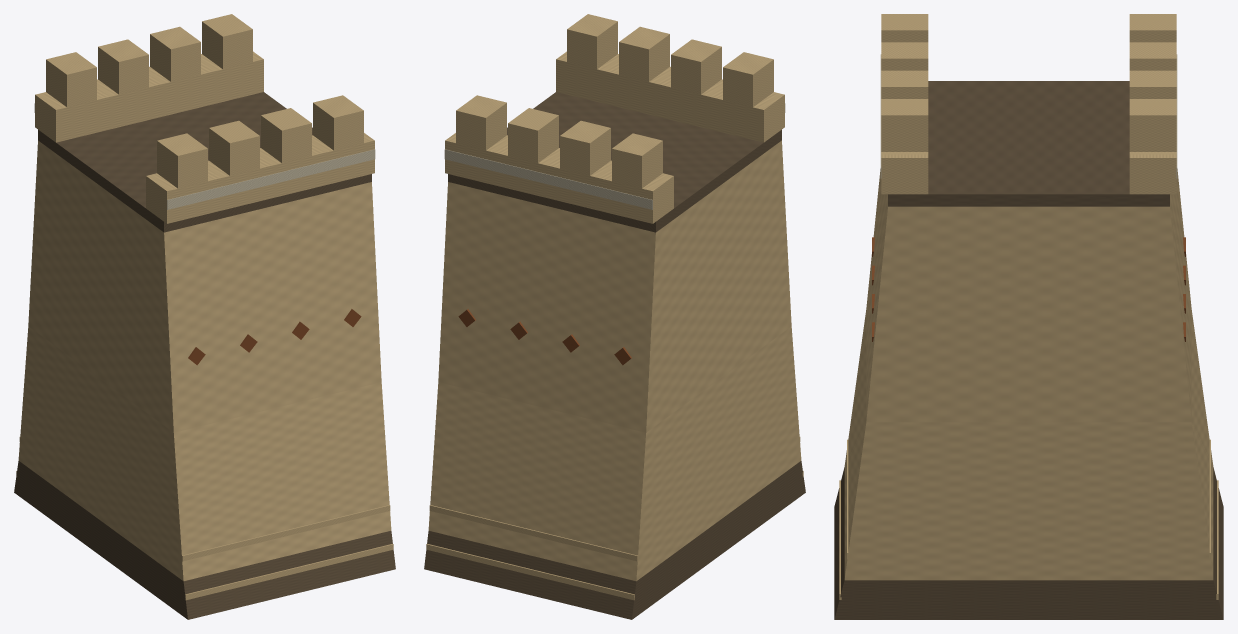
The model's file is Berber_Wall_Age4_gap_4m.fbx.
The picture shows the model from 3 angles, left to right: view 1: azimuth 30°, elevation 25°; view 2: azimuth 150°, elevation 25°; view 3: azimuth 270°, elevation 25°; orthographic projection. The views are drawn at different scales.
Parts seen in each view (by area): view 1: gap_4m_rammed_curtain_upper, gap_4m_rammed_curtain_lower, gap_4m_battered_stone_foot, gap_4m_walk_deck, gap_4m_parapet.001, gap_4m_parapet, gap_4m_merlon.003, gap_4m_merlon.002, gap_4m_merlon.005, gap_4m_merlon, gap_4m_merlon.004, gap_4m_merlon.001 (+6 smaller); view 2: gap_4m_rammed_curtain_upper, gap_4m_rammed_curtain_lower, gap_4m_battered_stone_foot, gap_4m_walk_deck, gap_4m_parapet, gap_4m_parapet.001, gap_4m_merlon.003, gap_4m_merlon.007, gap_4m_merlon, gap_4m_merlon.004, gap_4m_merlon.005, gap_4m_merlon.006 (+6 smaller); view 3: gap_4m_rammed_curtain_upper, gap_4m_rammed_curtain_lower, gap_4m_walk_deck, gap_4m_battered_stone_foot, gap_4m_merlon.007, gap_4m_merlon.003, gap_4m_parapet, gap_4m_parapet.001, gap_4m_merlon.001, gap_4m_merlon.004, gap_4m_merlon.005, gap_4m_merlon.006 (+2 smaller).
Part boxes in pixels (bbox=[...]): gap_4m_rammed_curtain_upper: bbox=[28, 140, 381, 432]; gap_4m_rammed_curtain_lower: bbox=[18, 326, 391, 581]; gap_4m_battered_stone_foot: bbox=[14, 461, 395, 619]; gap_4m_walk_deck: bbox=[38, 92, 371, 232]; gap_4m_parapet.001: bbox=[35, 51, 263, 142]; gap_4m_parapet: bbox=[146, 133, 374, 223]; gap_4m_merlon.003: bbox=[313, 95, 363, 150]; gap_4m_merlon.002: bbox=[261, 108, 311, 162]; gap_4m_merlon.005: bbox=[98, 39, 148, 94]; gap_4m_merlon: bbox=[157, 134, 207, 188]; gap_4m_merlon.004: bbox=[46, 52, 96, 107]; gap_4m_merlon.001: bbox=[209, 121, 259, 175]; gap_4m_rammed_curtain_upper: bbox=[438, 140, 791, 432]; gap_4m_rammed_curtain_lower: bbox=[428, 326, 801, 581]; gap_4m_battered_stone_foot: bbox=[424, 461, 805, 619]; gap_4m_walk_deck: bbox=[448, 92, 781, 232]; gap_4m_parapet: bbox=[556, 51, 784, 142]; gap_4m_parapet.001: bbox=[445, 133, 673, 223]; gap_4m_merlon.003: bbox=[567, 14, 617, 69]; gap_4m_merlon.007: bbox=[456, 95, 506, 150]; gap_4m_merlon: bbox=[723, 52, 773, 107]; gap_4m_merlon.004: bbox=[612, 133, 662, 188]; gap_4m_merlon.005: bbox=[560, 120, 610, 175]; gap_4m_merlon.006: bbox=[508, 108, 558, 162]; gap_4m_rammed_curtain_upper: bbox=[866, 169, 1191, 422]; gap_4m_rammed_curtain_lower: bbox=[844, 310, 1213, 580]; gap_4m_walk_deck: bbox=[888, 81, 1169, 206]; gap_4m_battered_stone_foot: bbox=[834, 467, 1223, 619]; gap_4m_merlon.007: bbox=[1129, 99, 1176, 151]; gap_4m_merlon.003: bbox=[881, 99, 928, 151]; gap_4m_parapet: bbox=[881, 152, 928, 194]; gap_4m_parapet.001: bbox=[1129, 152, 1176, 194]; gap_4m_merlon.001: bbox=[881, 42, 928, 70]; gap_4m_merlon.004: bbox=[1129, 14, 1176, 42]; gap_4m_merlon.005: bbox=[1129, 42, 1176, 70]; gap_4m_merlon.006: bbox=[1129, 70, 1176, 98].
Bounding box in the file's own units: 400 × 820 × 580.
4 materials, 4 textured.
